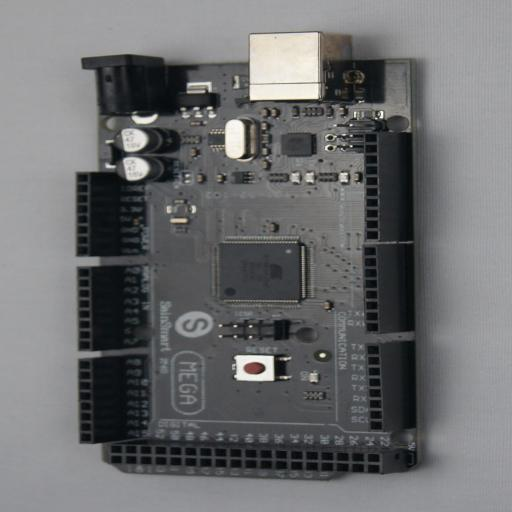Arduino Mega 2560 -Black-: (76, 35, 440, 481)
